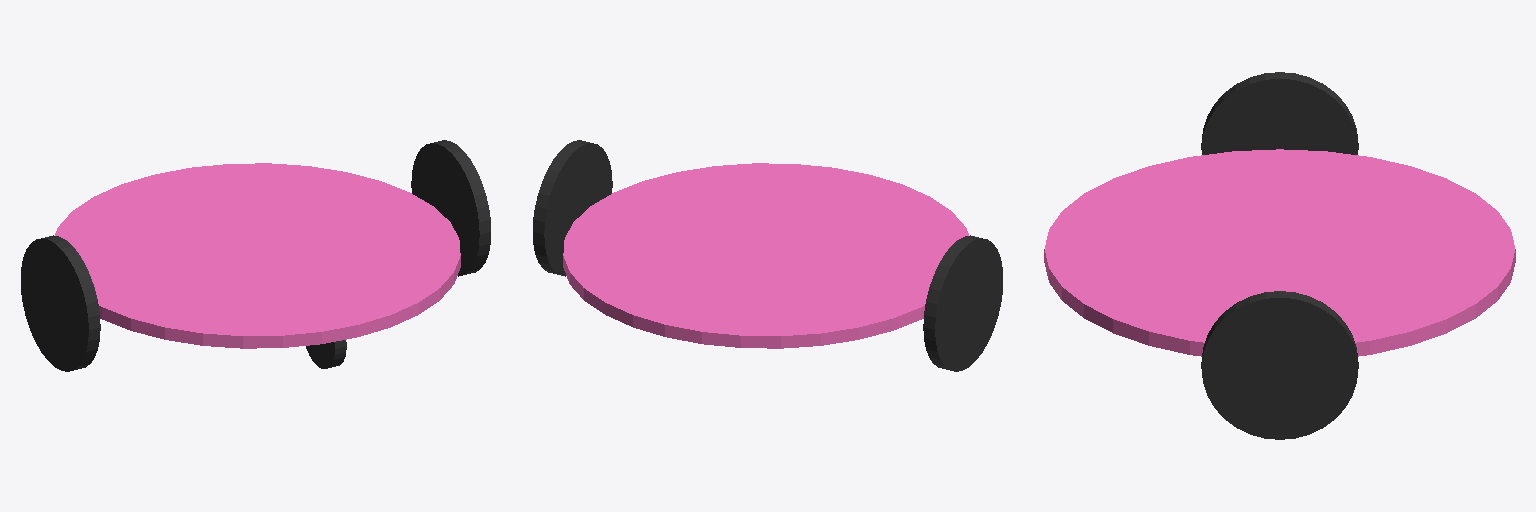
URDF robot description (romi):
<?xml version="1.0"?>
<robot name="romi">

  <material name="pink">
    <color rgba="1 0.5 0.8 1"/>
  </material>
  <material name="darkgrey">
    <color rgba="0.25 0.25 0.25 1"/>
  </material>

  <link name="base_link">
    <visual>
      <geometry>
        <cylinder length="0.01" radius="0.15"/>
      </geometry>
      <material name="pink"/>
    </visual>
    <collision>
      <geometry>
        <cylinder length="0.01" radius="0.15"/>
      </geometry>
    </collision>
    <inertial>
      <origin rpy="0 0 0" xyz="0 0 0"/>
      <mass value="1.0"/>
      <inertia ixx="0.001" ixy="0" ixz="0" iyy="0.001" iyz="0" izz="0.001"/>
    </inertial>
  </link>

  <link name="wheel_l">
    <visual>
      <geometry>
        <cylinder length="0.01" radius="0.05"/>
      </geometry>
      <material name="darkgrey"/>
    </visual>
    <collision>
      <geometry>
        <cylinder length="0.01" radius="0.05"/>
      </geometry>
    </collision>
    <!-- contact taken from racecar_differential.urdf -->
    <contact>
      <lateral_friction value=".3"/>
      <rolling_friction value="0.0"/>
      <stiffness value="300000"/>
      <damping value="1000"/>
    </contact>
    <inertial>
      <origin rpy="0 0 0" xyz="0 0 0"/>
      <mass value="0.1"/>
      <inertia ixx="0.0001" ixy="0" ixz="0" iyy="0.0001" iyz="0" izz="0.0001"/>
    </inertial>
  </link>
  <joint name="wheel_l_joint" type="continuous">
    <parent link="base_link"/>
    <child link="wheel_l"/>
    <origin rpy="0 1.57 0" xyz="0.165 0 0"/>
    <axis xyz="0 0 -1"/>
  </joint>

  <link name="wheel_r">
    <visual>
      <geometry>
        <cylinder length="0.01" radius="0.05"/>
      </geometry>
      <material name="darkgrey"/>
    </visual>
    <collision>
      <geometry>
        <cylinder length="0.01" radius="0.05"/>
      </geometry>
    </collision>
    <!-- contact taken from racecar_differential.urdf -->
    <contact>
      <lateral_friction value=".3"/>
      <rolling_friction value="0.0"/>
      <stiffness value="300000"/>
      <damping value="1000"/>
    </contact>
    <inertial>
      <origin rpy="0 0 0" xyz="0 0 0"/>
      <mass value="0.1"/>
      <inertia ixx="0.0001" ixy="0" ixz="0" iyy="0.0001" iyz="0" izz="0.0001"/>
    </inertial>
  </link>
  <joint name="wheel_r_joint" type="continuous">
    <parent link="base_link"/>
    <child link="wheel_r"/>
    <origin rpy="0 1.57 0" xyz="-0.165 0 0"/>
    <axis xyz="0 0 -1"/>
  </joint>

  <link name="wheel_rear">
    <visual>
      <geometry>
        <cylinder length="0.01" radius="0.024"/>
      </geometry>
      <material name="darkgrey"/>
    </visual>
    <collision>
      <geometry>
        <cylinder length="0.01" radius="0.024"/>
      </geometry>
    </collision>
    <contact>
      <lateral_friction value="0.0"/>
      <rolling_friction value="0.0"/>
      <stiffness value="300000"/>
      <damping value="1000"/>
    </contact>
    <inertial>
      <origin rpy="0 0 0" xyz="0 0 0"/>
      <mass value="0.1"/>
      <inertia ixx="0.0001" ixy="0" ixz="0" iyy="0.0001" iyz="0" izz="0.0001"/>
    </inertial>
  </link>
  <joint name="wheel_rear_joint" type="continuous">
    <parent link="base_link"/>
    <child link="wheel_rear"/>
    <origin rpy="0 1.57 0" xyz="0 -0.1 -0.024"/>
    <axis xyz="0 0 -1"/>
  </joint>
</robot>

--- What the picture shows (computed from the rendered views, not written in the file) ---
Views: 3 orthographic renders of the robot side by side, from view 1: azimuth 30°, elevation 25°; view 2: azimuth 150°, elevation 25°; view 3: azimuth 270°, elevation 25°.
Robot: romi — 4 links, 3 joints (3 continuous); root link base_link; default pose: every joint at zero.
Links seen in each view (by area): view 1: base_link, wheel_r, wheel_l, wheel_rear; view 2: base_link, wheel_r, wheel_l; view 3: base_link, wheel_l, wheel_r.
Link boxes in pixels (left/top/right/bottom): base_link: left=55, top=163, right=460, bottom=348; wheel_r: left=21, top=235, right=100, bottom=371; wheel_l: left=411, top=140, right=490, bottom=276; wheel_rear: left=306, top=340, right=346, bottom=368; base_link: left=563, top=163, right=968, bottom=348; wheel_r: left=923, top=235, right=1002, bottom=371; wheel_l: left=533, top=140, right=612, bottom=276; base_link: left=1044, top=149, right=1515, bottom=356; wheel_l: left=1201, top=291, right=1358, bottom=439; wheel_r: left=1201, top=72, right=1358, bottom=154.
Bounding box of the posed robot: 0.3401 × 0.3 × 0.1 m (x, y, z).
Geometry: primitives only (box / cylinder / sphere), no mesh files.